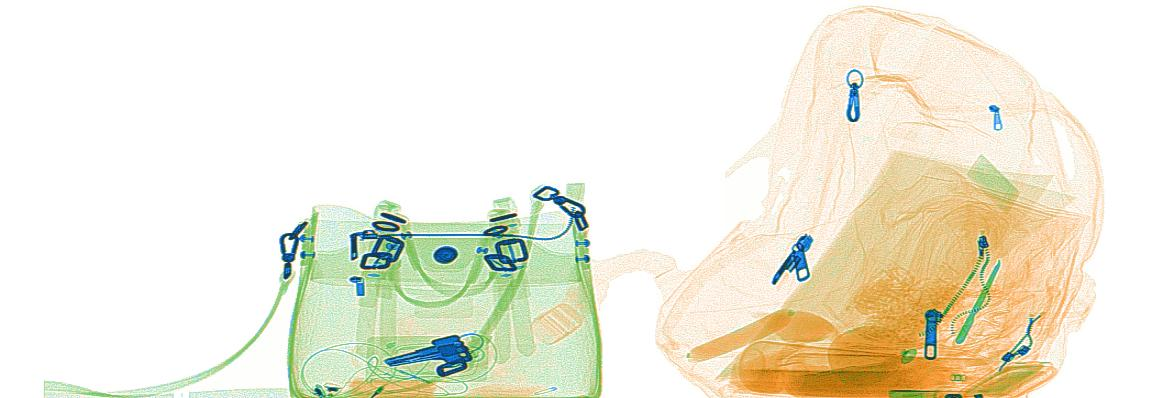plasticBottleWithaNozzle: (784, 352, 996, 394)
